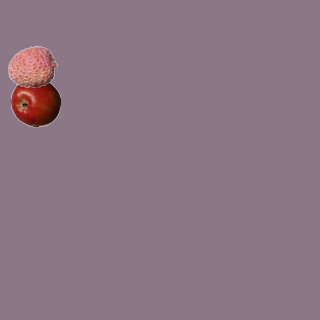Apple Braeburn: (10, 77, 60, 127)
Lychee: (7, 41, 57, 91)
